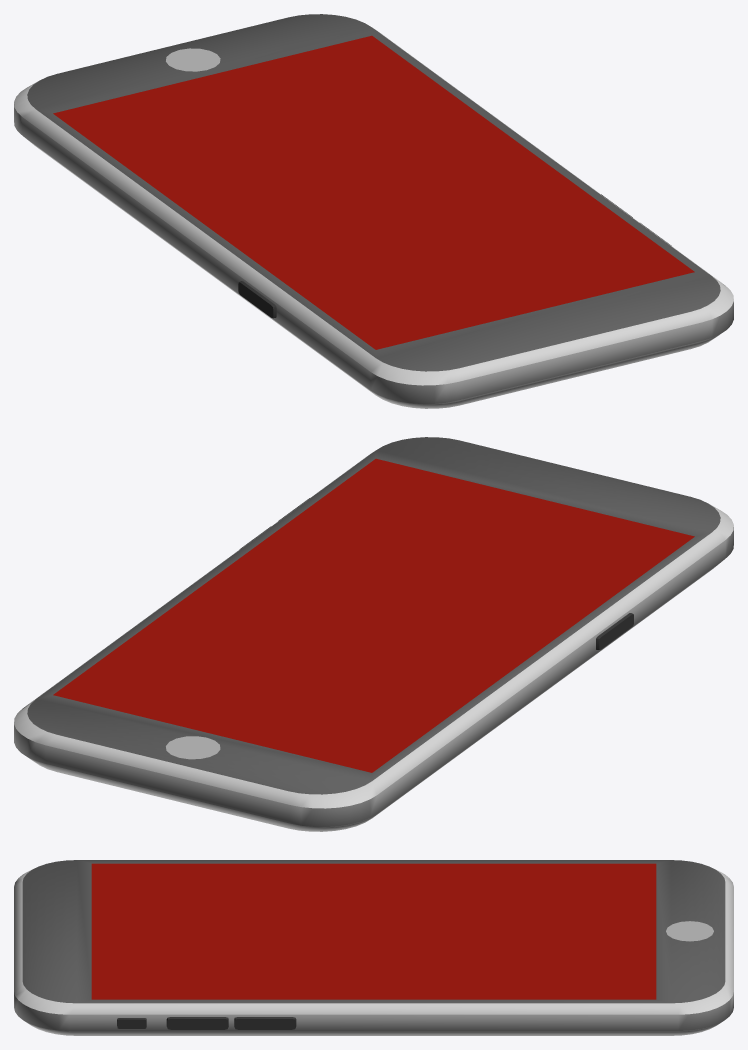
The model's file is prop_phone.fbx.
3 renders of one model, top to bottom at view 1: azimuth 30°, elevation 25°; view 2: azimuth 150°, elevation 25°; view 3: azimuth 270°, elevation 25°, orthographic. The views are drawn at different scales.
Visible parts, largest first — view 1: phone; view 2: phone; view 3: phone.
Part boxes in pixels (x1,y1,x2,y2): phone: (14,14,733,408); phone: (14,437,733,831); phone: (14,860,733,1035).
Size of the model in its own units: 0.1051 by 0.0105 by 0.2076.
